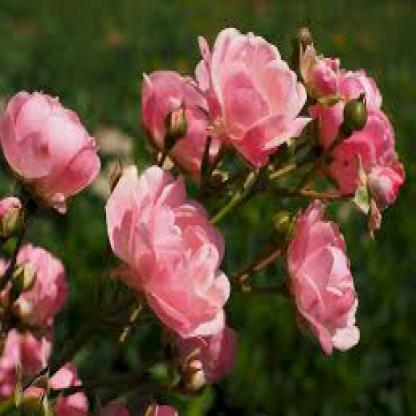Rose-Mawar: (138, 31, 408, 211), (106, 151, 249, 385), (274, 194, 370, 355), (38, 368, 91, 415)
